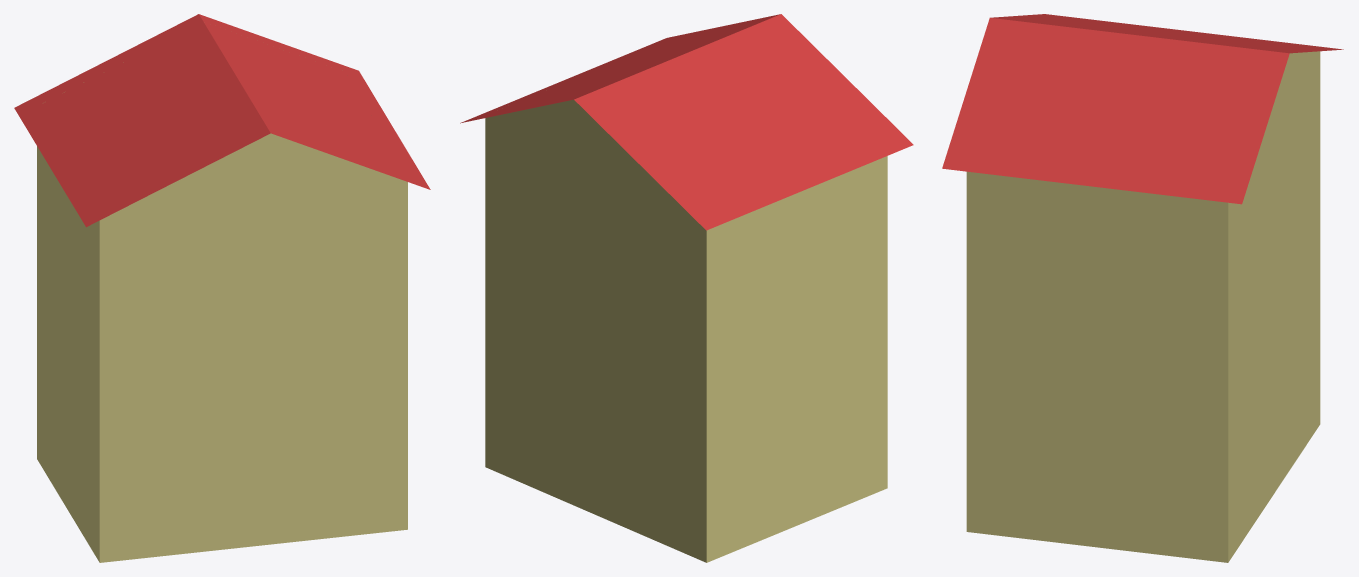
3 views of the same model, side by side, from view 1: azimuth 30°, elevation 25°; view 2: azimuth 150°, elevation 25°; view 3: azimuth 270°, elevation 25° (orthographic). The views are drawn at different scales.
Visible parts, largest first — view 1: group_5, group_3, group_4; view 2: group_5, group_3, group_4; view 3: group_5, group_3, group_4.
Boxes of the visible parts, x1=… form: group_5: x1=37, y1=62, x2=407, y2=562; group_3: x1=14, y1=14, x2=430, y2=227; group_4: x1=14, y1=14, x2=377, y2=165; group_5: x1=485, y1=99, x2=887, y2=562; group_3: x1=466, y1=14, x2=913, y2=229; group_4: x1=460, y1=14, x2=810, y2=230; group_5: x1=966, y1=51, x2=1320, y2=562; group_3: x1=942, y1=14, x2=1335, y2=204; group_4: x1=988, y1=18, x2=1343, y2=204.
Bounding box in the file's own units: 5.62 × 5.03 × 6.17.
